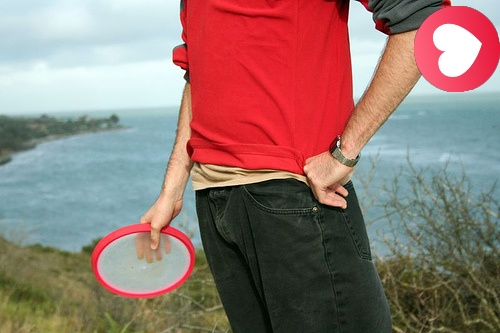love: (414, 6, 500, 92)
